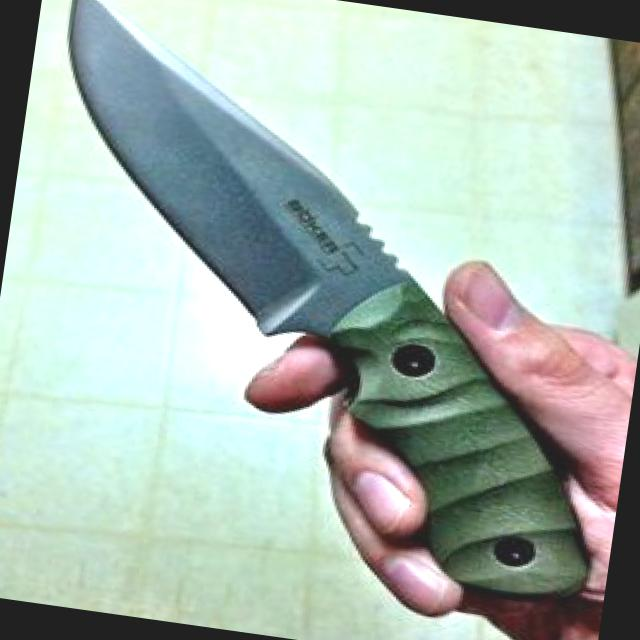knife: (0, 0, 563, 468)
